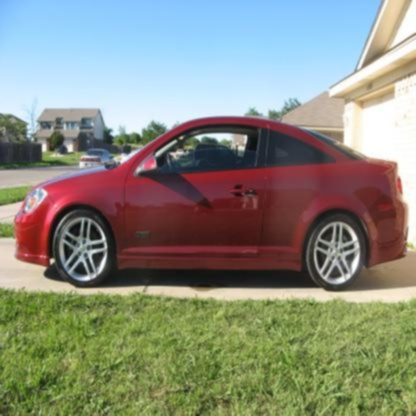Vehicle: (12, 114, 412, 294)
